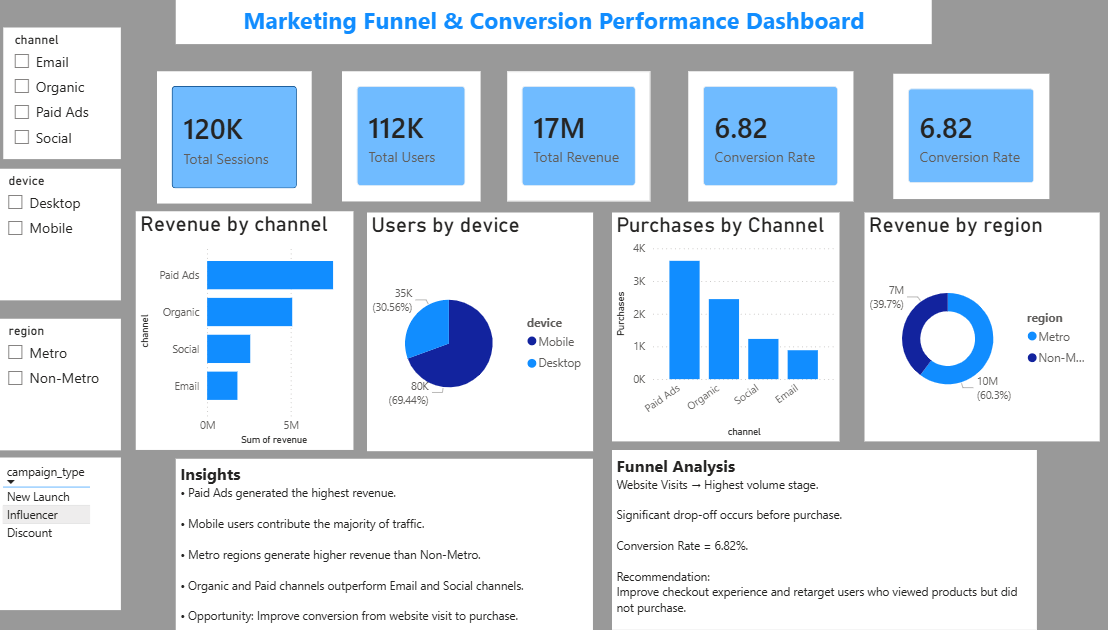

The page's visual inventory and layout, read from the dashboard file:
{"tool":"powerbi","page":{"name":"Page 1","canvas":[1280,720],"ordinal":0},"visuals":[{"type":"cardVisual","fields":{"Data":["d2c_marketing_funnel_data.Total Sessions"]},"box":[182.9,81.4,177.1,151.4],"z":0},{"type":"cardVisual","fields":{"Data":["d2c_marketing_funnel_data.Total Users"]},"box":[394.3,81.4,158.6,148.6],"z":1},{"type":"cardVisual","fields":{"Data":["d2c_marketing_funnel_data.Total Revenue"]},"box":[582.9,81.4,164.3,148.6],"z":2},{"type":"clusteredBarChart","title":"Revenue by channel","fields":{"Category":["d2c_marketing_funnel_data.channel"],"Y":["Sum(d2c_marketing_funnel_data.revenue)"]},"box":[158.6,241.4,248.6,272.9],"z":3},{"type":"pieChart","title":" Users by device","fields":{"Category":["d2c_marketing_funnel_data.device"],"Y":["d2c_marketing_funnel_data.Total Users"]},"box":[422.9,242.9,258.6,272.9],"z":4},{"type":"donutChart","title":" Revenue by region","fields":{"Category":["d2c_marketing_funnel_data.region"],"Y":["d2c_marketing_funnel_data.Total Revenue"]},"box":[991.4,242.9,268.6,261.4],"z":5},{"type":"slicer","fields":{"Values":["d2c_marketing_funnel_data.channel"]},"box":[7.1,31.4,134.3,150],"z":7},{"type":"slicer","fields":{"Values":["d2c_marketing_funnel_data.device"]},"box":[0,192.9,141.4,150],"z":8},{"type":"slicer","fields":{"Values":["d2c_marketing_funnel_data.region"]},"box":[0,364.3,141.4,150],"z":9},{"type":"tableEx","fields":{"Values":["d2c_marketing_funnel_data.campaign_type"]},"box":[0,522.9,141.4,174.3],"z":11},{"type":"cardVisual","fields":{"Data":["Table.Conversion Rate"]},"box":[790,81.4,188.6,148.6],"z":12},{"type":"clusteredColumnChart","title":"Purchases by Channel","fields":{"Category":["d2c_marketing_funnel_data.channel"],"Y":["d2c_marketing_funnel_data.Purchases"]},"box":[702.9,242.9,260,261.4],"z":13},{"type":"textbox","box":[204.3,0,864.3,50],"z":14},{"type":"textbox","box":[204.3,524.3,477.1,195.7],"z":15},{"type":"cardVisual","fields":{"Data":["Table.Conversion Rate"]},"box":[1024.3,84.3,178.6,142.9],"z":16},{"type":"textbox","box":[702.9,514.3,485.7,205.7],"z":17}]}

Visuals, with their boxes in screenshot pixels (x1, y1, x2, y2), scaled from the page's 1280x720 canvas onto the 1108x630 screenshot:
cardVisual - d2c_marketing_funnel_data.Total Sessions: <bbox>158, 71, 312, 204</bbox>
cardVisual - d2c_marketing_funnel_data.Total Users: <bbox>341, 71, 479, 201</bbox>
cardVisual - d2c_marketing_funnel_data.Total Revenue: <bbox>505, 71, 647, 201</bbox>
"Revenue by channel" clusteredBarChart: <bbox>137, 211, 352, 450</bbox>
" Users by device" pieChart: <bbox>366, 213, 590, 451</bbox>
" Revenue by region" donutChart: <bbox>858, 213, 1091, 441</bbox>
slicer - d2c_marketing_funnel_data.channel: <bbox>6, 27, 122, 159</bbox>
slicer - d2c_marketing_funnel_data.device: <bbox>0, 169, 122, 300</bbox>
slicer - d2c_marketing_funnel_data.region: <bbox>0, 319, 122, 450</bbox>
tableEx - d2c_marketing_funnel_data.campaign_type: <bbox>0, 458, 122, 610</bbox>
cardVisual - Table.Conversion Rate: <bbox>684, 71, 847, 201</bbox>
"Purchases by Channel" clusteredColumnChart: <bbox>608, 213, 834, 441</bbox>
textbox: <bbox>177, 0, 925, 44</bbox>
textbox: <bbox>177, 459, 590, 629</bbox>
cardVisual - Table.Conversion Rate: <bbox>887, 74, 1041, 199</bbox>
textbox: <bbox>608, 450, 1029, 629</bbox>
